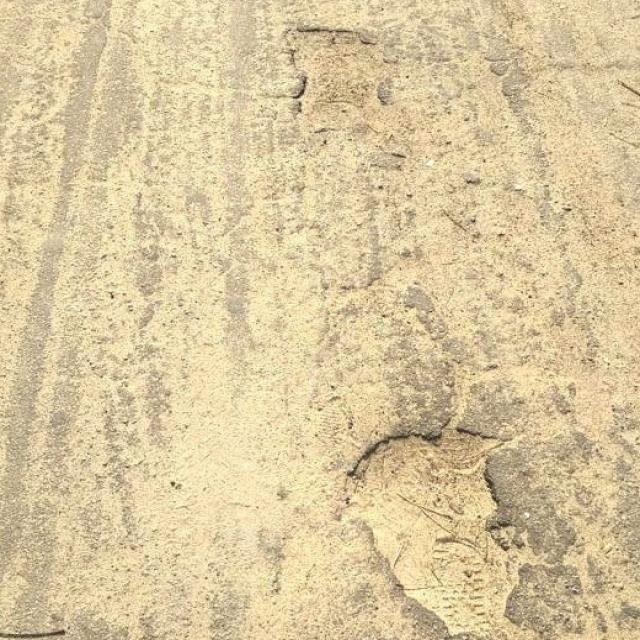road-pothole: (337, 421, 555, 639), (281, 22, 407, 154)
